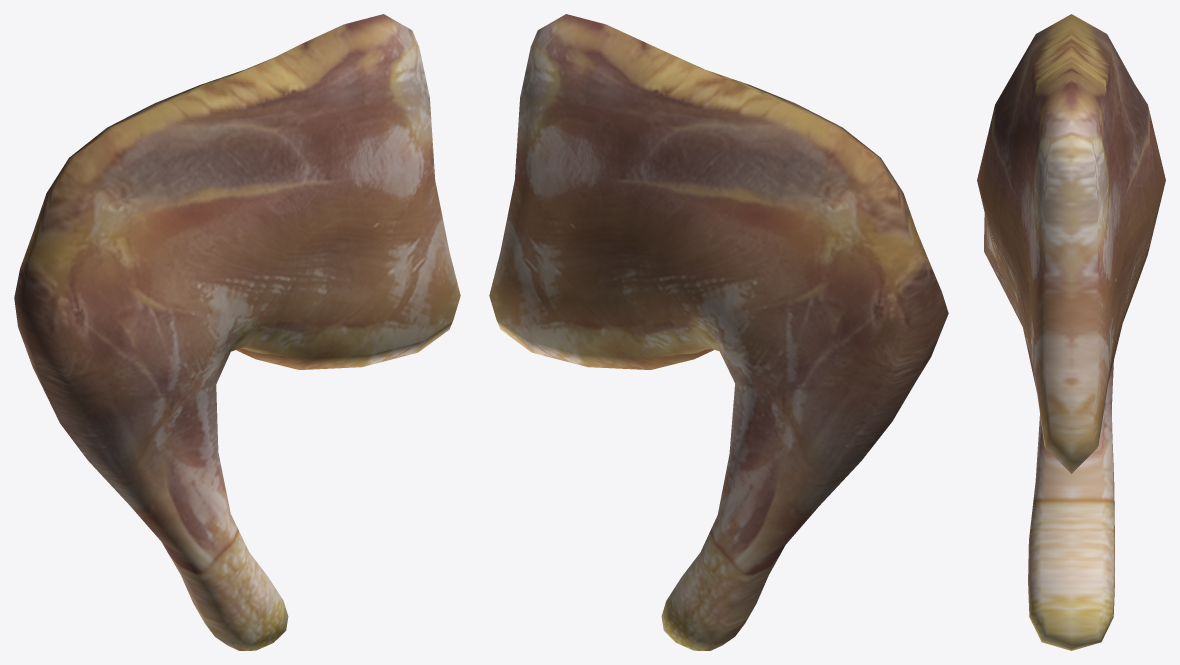
The model's file is giblets_4.fbx.
3 views of the same model, side by side, from view 1: azimuth 30°, elevation 25°; view 2: azimuth 150°, elevation 25°; view 3: azimuth 270°, elevation 25° (orthographic). The views are drawn at different scales.
Visible parts, largest first — view 1: giblets_04; view 2: giblets_04; view 3: giblets_04.
Boxes of the visible parts, left/top/right/bottom form: giblets_04: left=14, top=14, right=460, bottom=650; giblets_04: left=489, top=14, right=948, bottom=650; giblets_04: left=977, top=14, right=1165, bottom=650.
Size of the model in its own units: 18.17 by 23.84 by 6.64.
